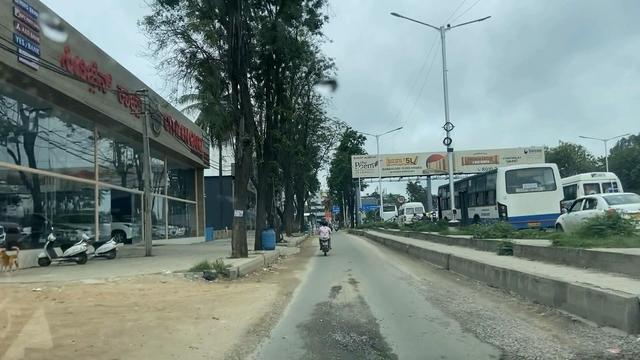RoadDamages: (294, 287, 408, 360), (472, 317, 549, 360)
